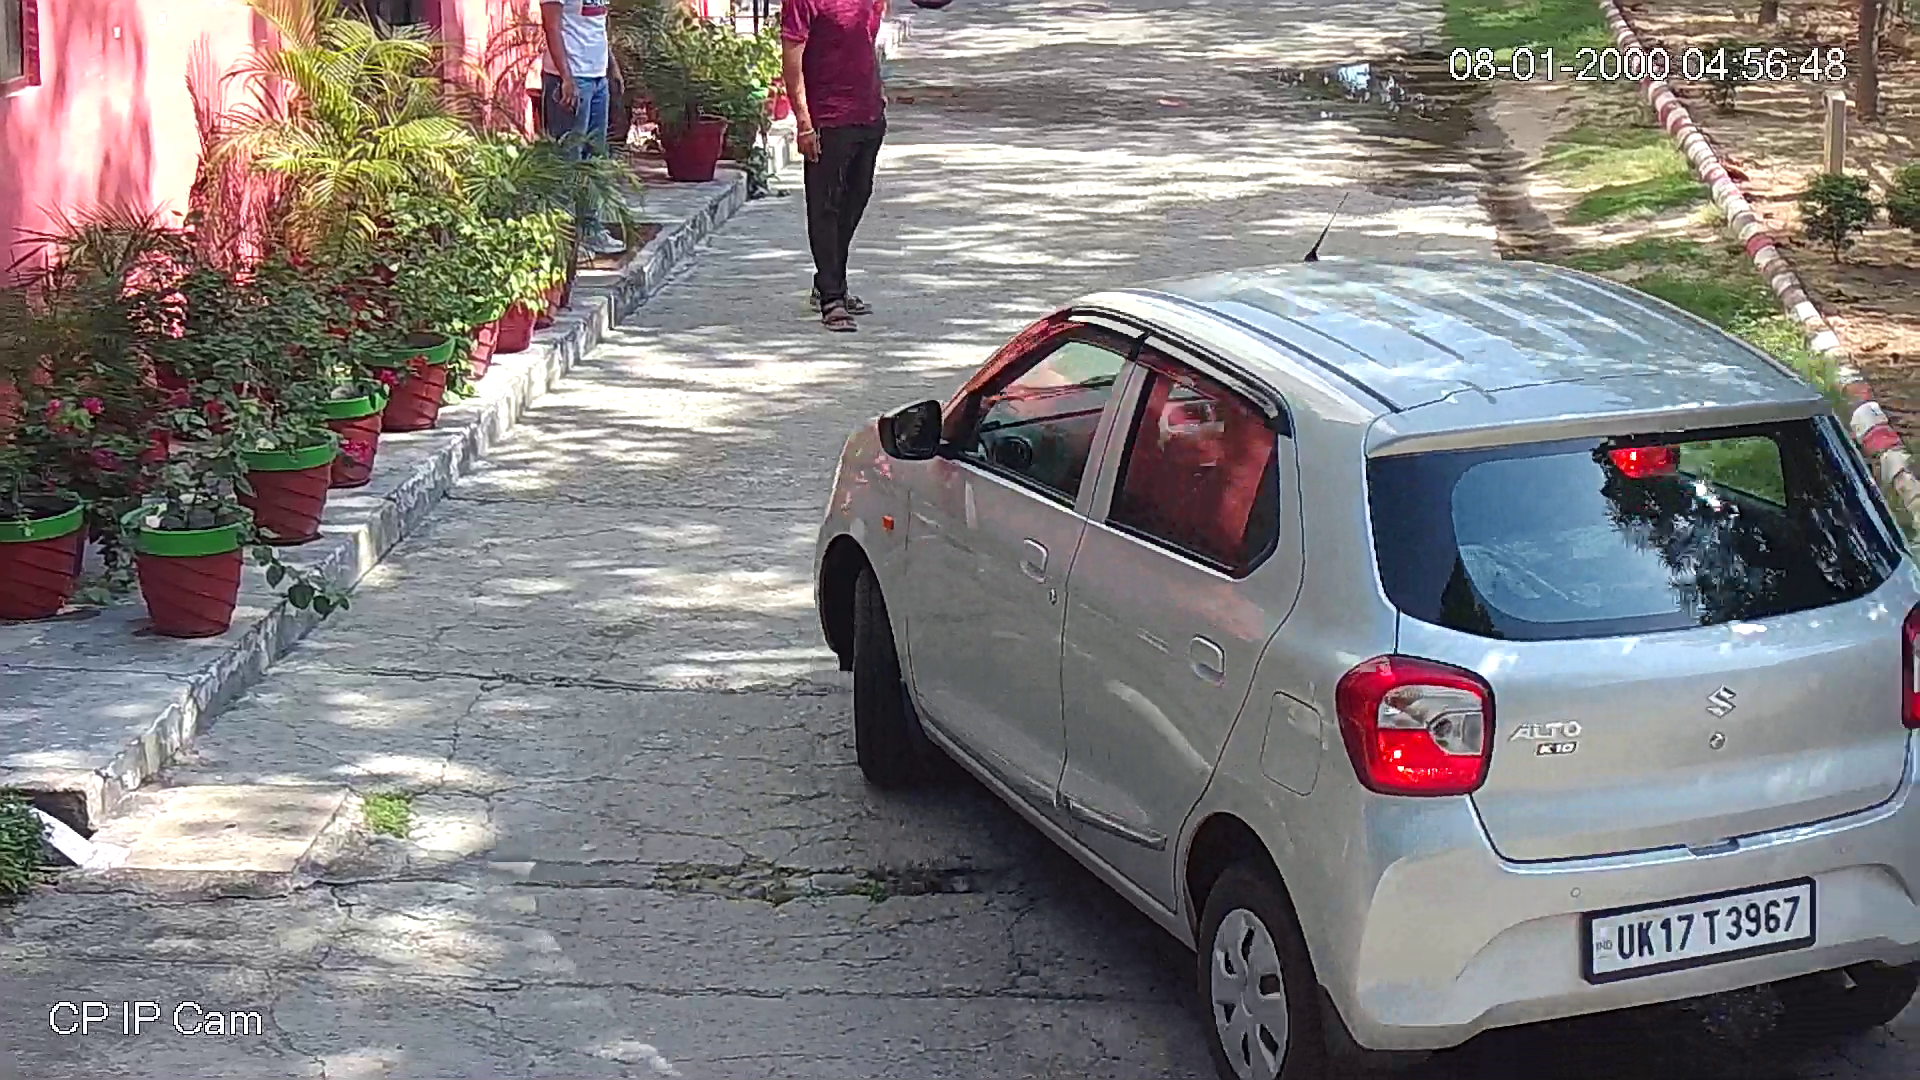plate: (1580, 871, 1823, 993)
